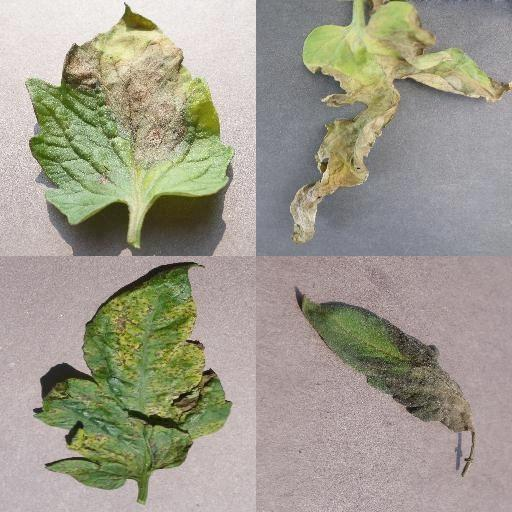Late Blight: (288, 0, 511, 244), (26, 4, 236, 226), (292, 287, 476, 433)
Septoria: (32, 261, 234, 491)
